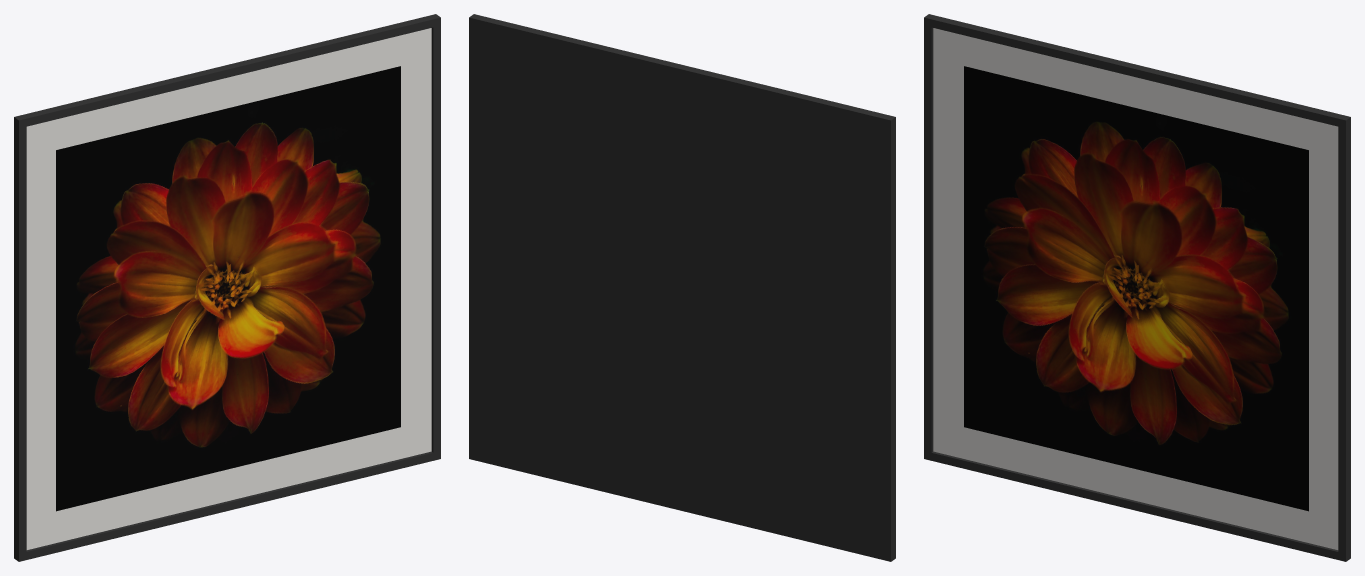
The model's file is dahlian-90.gltf.
3 views of the same model, side by side, from view 1: azimuth 30°, elevation 25°; view 2: azimuth 150°, elevation 25°; view 3: azimuth 330°, elevation 25° (orthographic).
Parts seen in each view (by area): view 1: tavla; view 2: tavla; view 3: tavla.
Boxes of the visible parts, left/top/right/bottom form: tavla: left=14, top=14, right=440, bottom=561; tavla: left=469, top=14, right=895, bottom=561; tavla: left=924, top=14, right=1350, bottom=561.
Size of the model in its own units: 1.1 by 1.1 by 0.022.
Materials: 3 (1 with a texture image).
